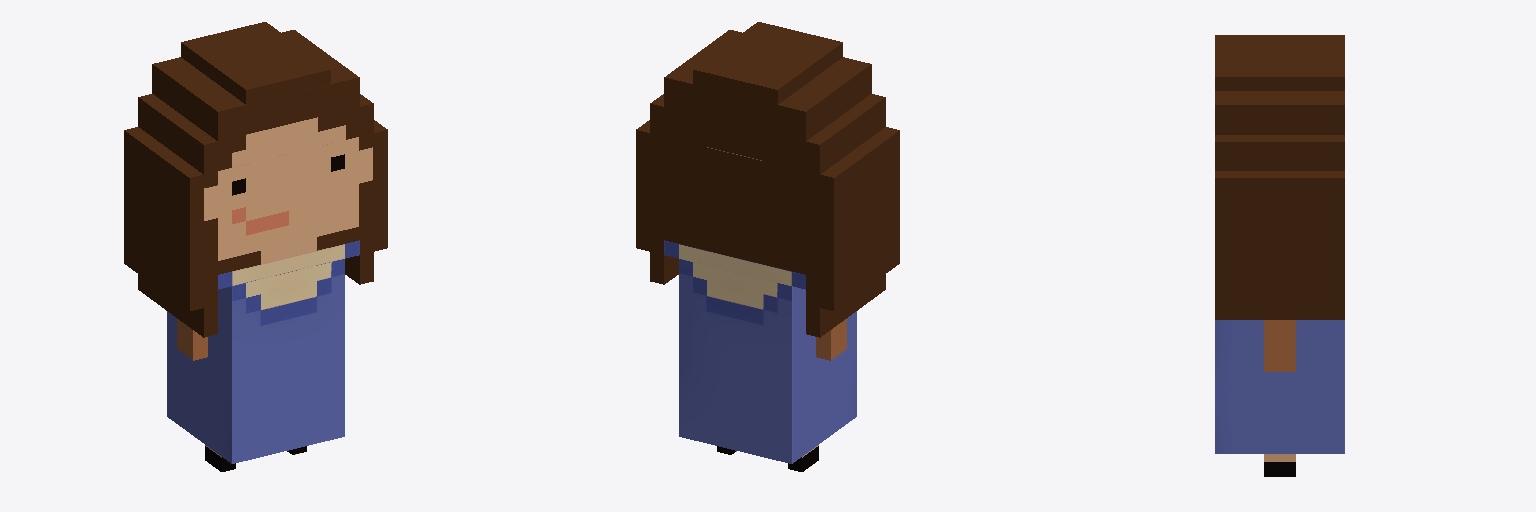
3 views of the same model, side by side, from view 1: azimuth 30°, elevation 25°; view 2: azimuth 150°, elevation 25°; view 3: azimuth 270°, elevation 25° (orthographic).
Visible parts, largest first — view 1: Plane_Plane.003, body_Plane.001, arm.r_Plane.007; view 2: Plane_Plane.003, body_Plane.001, arm.r_Plane.007; view 3: Plane_Plane.003, body_Plane.001, arm.l_Plane.006, leg.l_Plane.005.
Boxes of the visible parts, box(x1,y1,x2,y2) form: Plane_Plane.003: box(124, 22, 387, 337); body_Plane.001: box(167, 240, 359, 463); arm.r_Plane.007: box(177, 319, 207, 360); Plane_Plane.003: box(636, 22, 899, 337); body_Plane.001: box(664, 240, 856, 463); arm.r_Plane.007: box(816, 319, 846, 360); Plane_Plane.003: box(1215, 35, 1344, 319); body_Plane.001: box(1215, 320, 1344, 453); arm.l_Plane.006: box(1264, 320, 1295, 371); leg.l_Plane.005: box(1264, 454, 1295, 476).
Bounding box in the file's own units: 1.4 × 2.7 × 0.8.
5 materials, 3 textured.